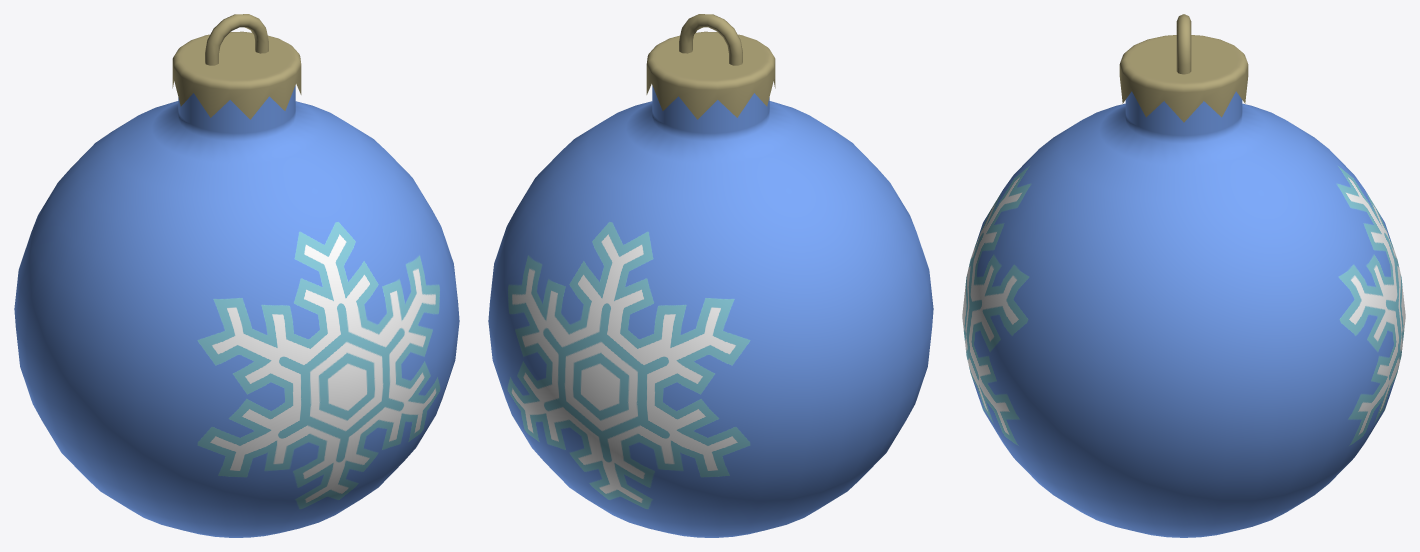
Rendered from bauble_blue.glb.
3 views of the same model, side by side, from view 1: azimuth 30°, elevation 25°; view 2: azimuth 150°, elevation 25°; view 3: azimuth 270°, elevation 25° (orthographic).
Visible parts, largest first — view 1: Bauble.001, Lid.001, Torus.001; view 2: Bauble.001, Lid.001, Torus.001; view 3: Bauble.001, Lid.001, Torus.001.
Part boxes in pixels (left/top/right/bottom): Bauble.001: left=14, top=85, right=459, bottom=537; Lid.001: left=172, top=31, right=301, bottom=119; Torus.001: left=205, top=14, right=268, bottom=65; Bauble.001: left=488, top=85, right=933, bottom=537; Lid.001: left=646, top=31, right=775, bottom=119; Torus.001: left=679, top=14, right=742, bottom=65; Bauble.001: left=962, top=91, right=1405, bottom=537; Lid.001: left=1119, top=35, right=1248, bottom=122; Torus.001: left=1176, top=14, right=1191, bottom=74.
Bounding box in the file's own units: 2.24 × 2.79 × 2.24.
3 materials, 1 textured.
